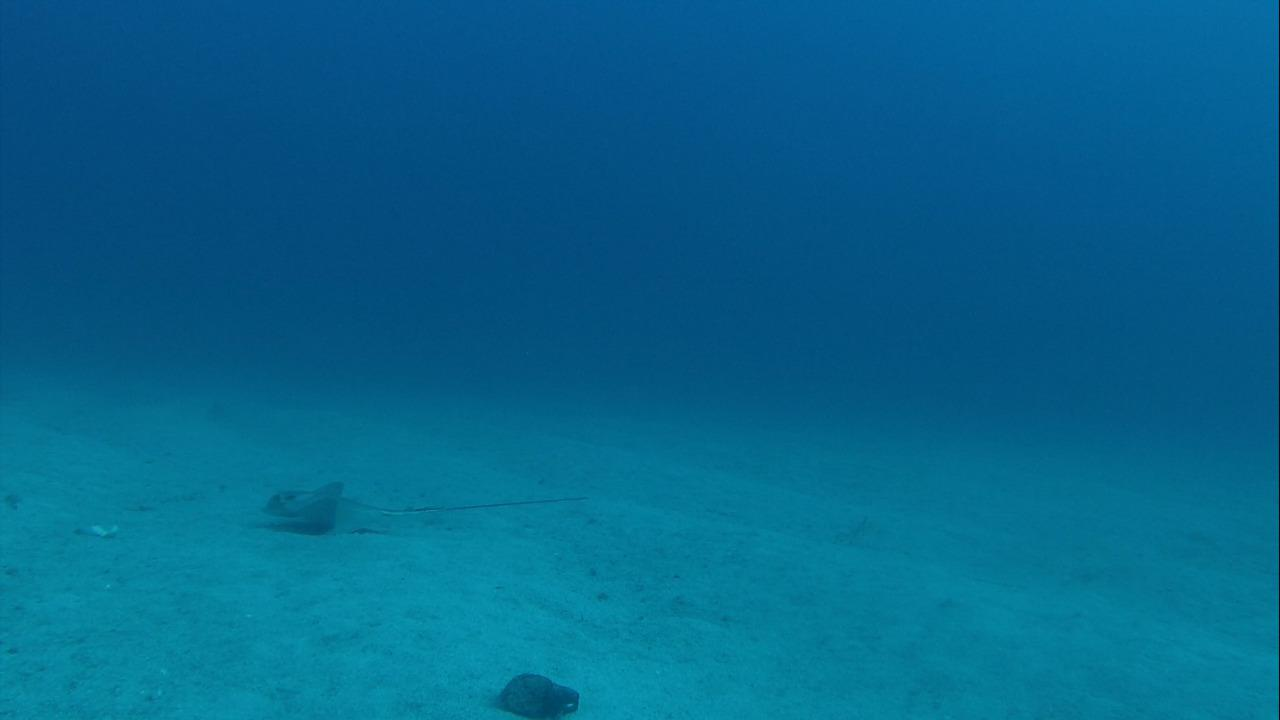myliobatis: (255, 477, 592, 539)
